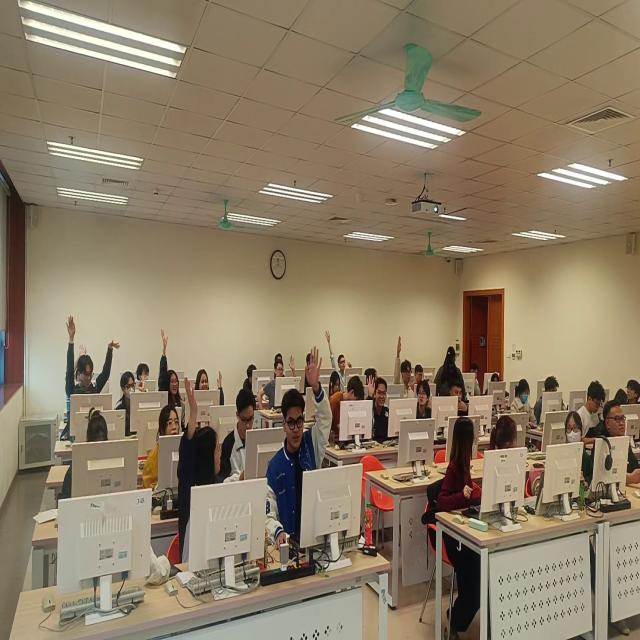raise_hand: (265, 344, 335, 568), (177, 372, 227, 565), (63, 308, 117, 443), (115, 366, 151, 433), (260, 352, 298, 414), (158, 324, 181, 408), (325, 325, 354, 389), (368, 371, 392, 444), (395, 333, 416, 400), (195, 366, 227, 408)
raise_head: (592, 400, 640, 490), (143, 403, 183, 497), (417, 378, 435, 419), (136, 357, 154, 382)
stand: (435, 341, 467, 395)
using_computer: (57, 414, 114, 507), (225, 386, 255, 484), (330, 373, 366, 436), (510, 377, 537, 429), (580, 380, 604, 438), (536, 376, 562, 427), (449, 379, 473, 419), (486, 371, 508, 400), (242, 364, 261, 390), (470, 362, 482, 397), (414, 363, 426, 383)
